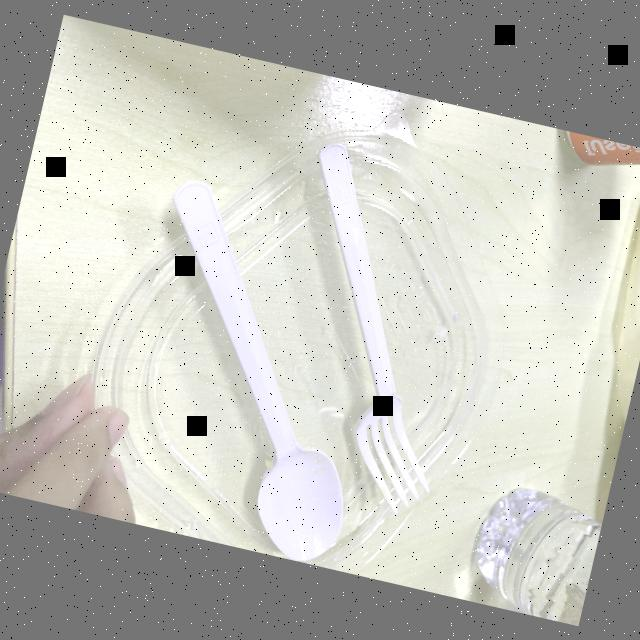plastic_cultery: (100, 168, 420, 570), (224, 123, 514, 525)
